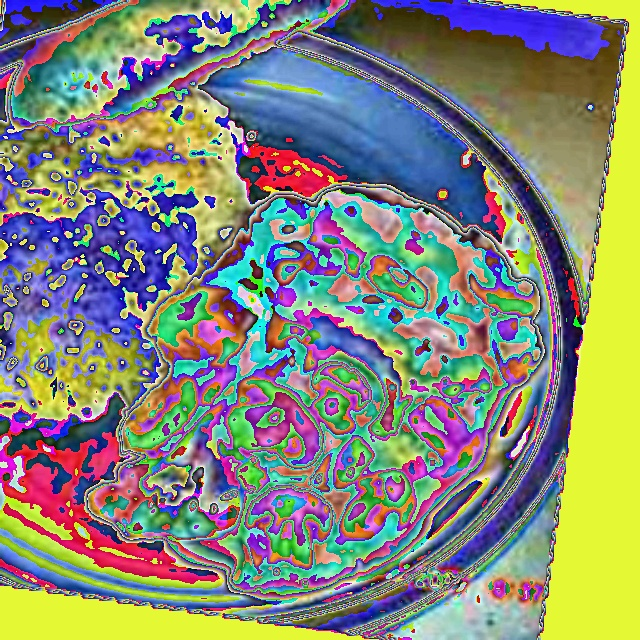background: (0, 0, 545, 590)
